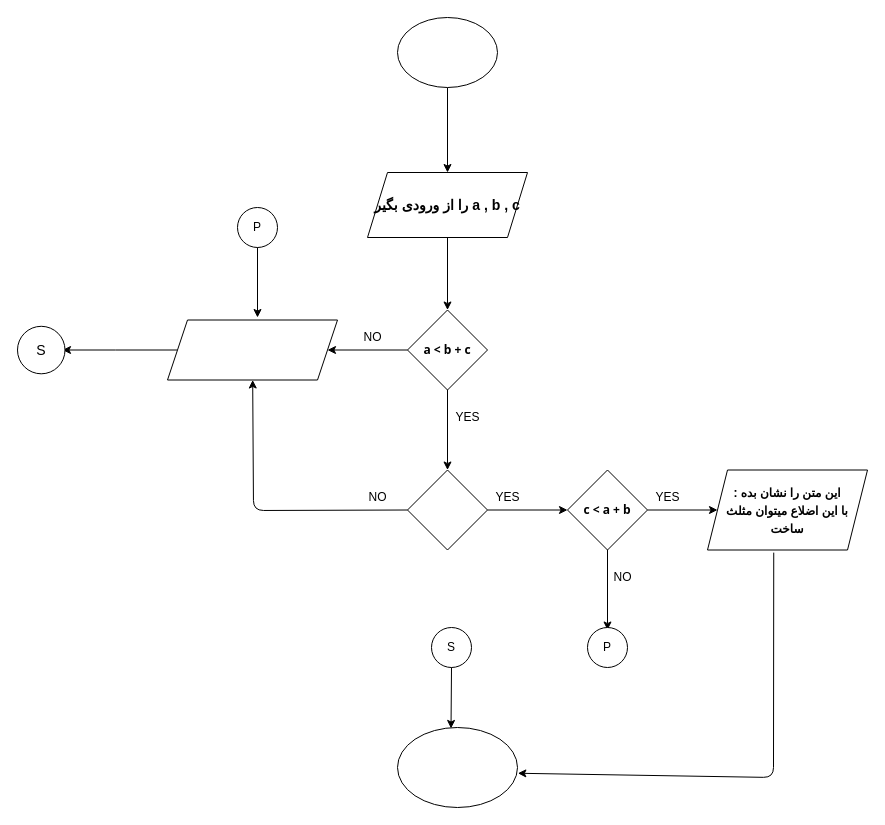
This 885x825 diagram has some shape labels left out. Here are the shapes that lost their labels. From the top down, the centre of each, then its label:
the point at 447,52: شروع
the point at 252,349: : این متن را نشان بده با این اضلاع نمیتوان مثلث ساخت
the point at 447,509: b < a + c
the point at 457,767: پایان
